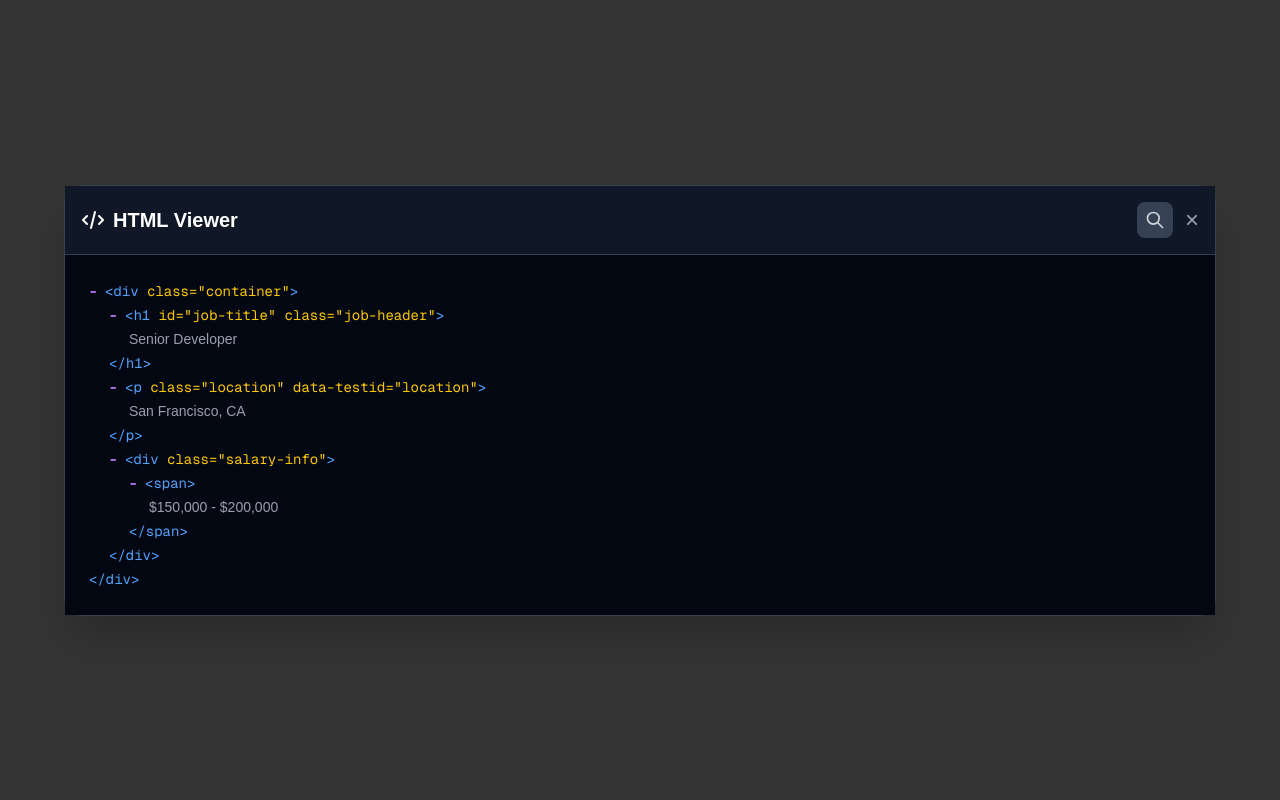
HtmlViewer › selector detection › should handle clipboard operations when "Copy Selector" is clicked
Right-click the element showing "- <h1 id=\"job-title\" class=\"job-header\">" at (277, 314), box [109,306,444,324]
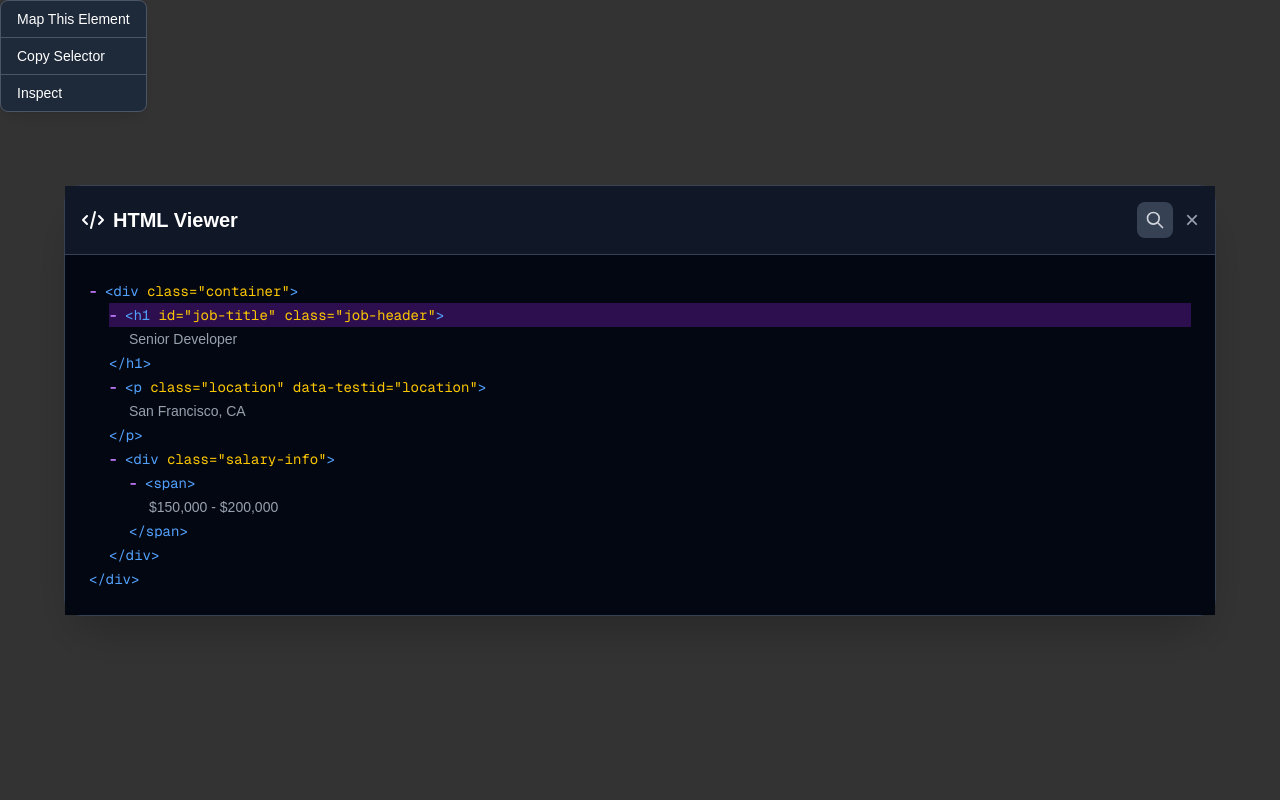
Result: the button "Copy Selector" is shown
Click the button "Copy Selector". click: (73, 56)
box: [1,37,146,74]
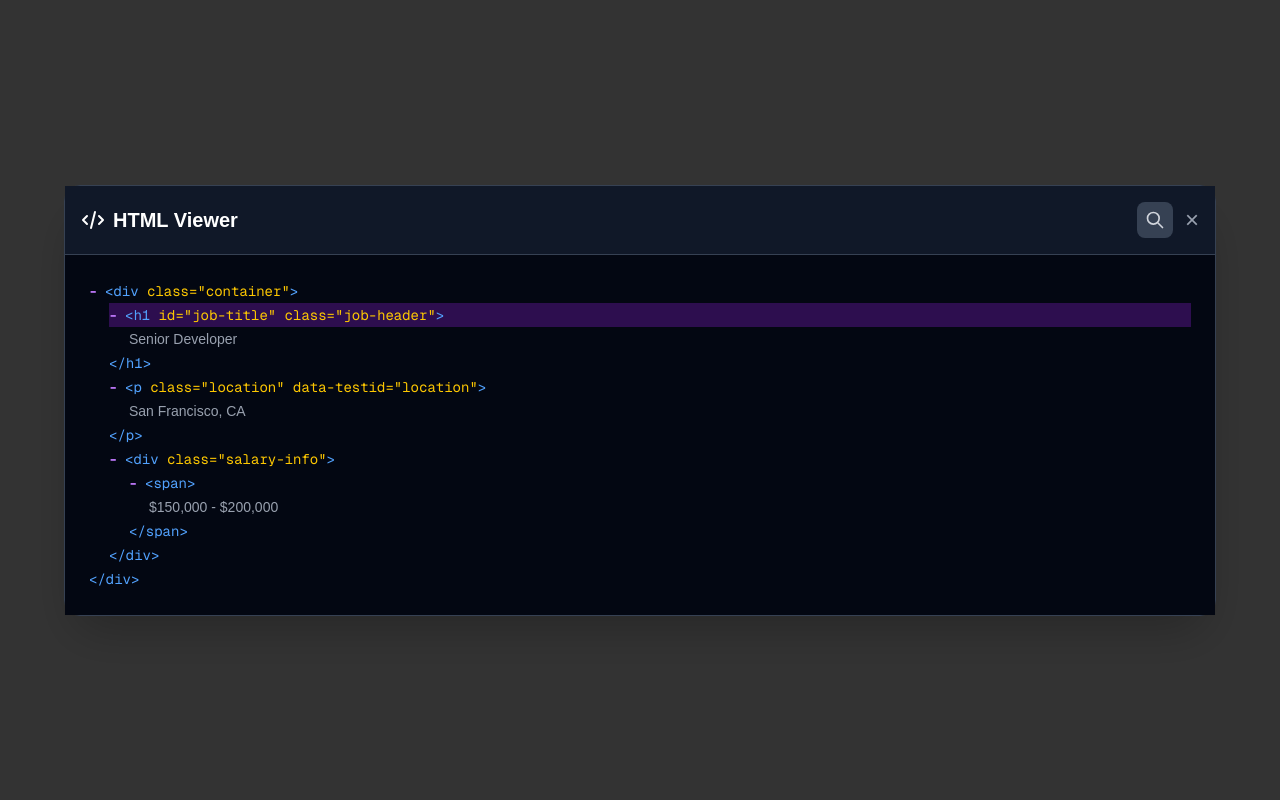
Result: the menu is gone
